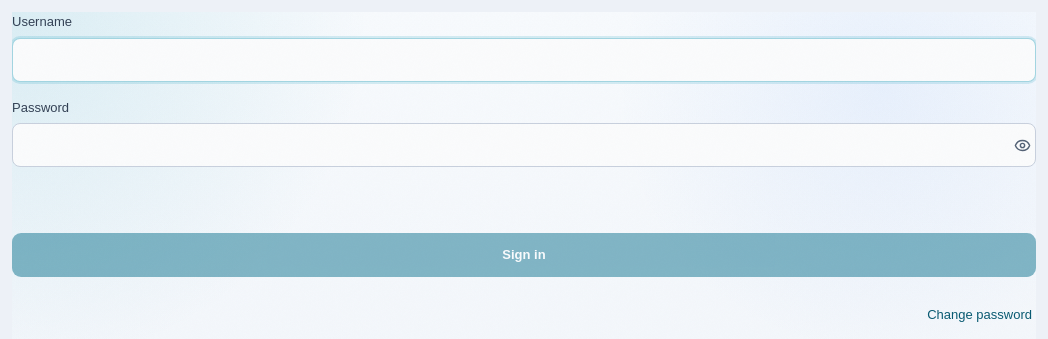
Test: SignInForm › shows why sign-in failed and lets the person try again
The width and height of the screenshot is (1048, 339).
Type "lead" into the field labelled "Username".
click(524, 60); type("lead")  # box [12,38,1036,82]
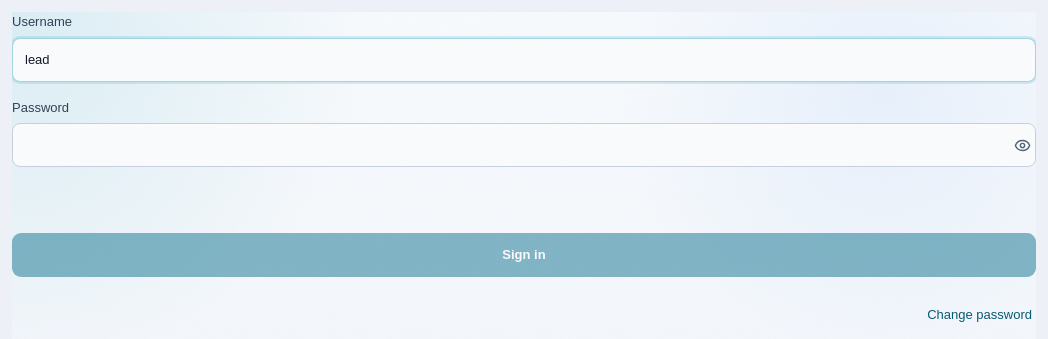
Type "wrong" into the password field labelled "Password".
click(524, 145); type("wrong")  # box [12,123,1036,167]
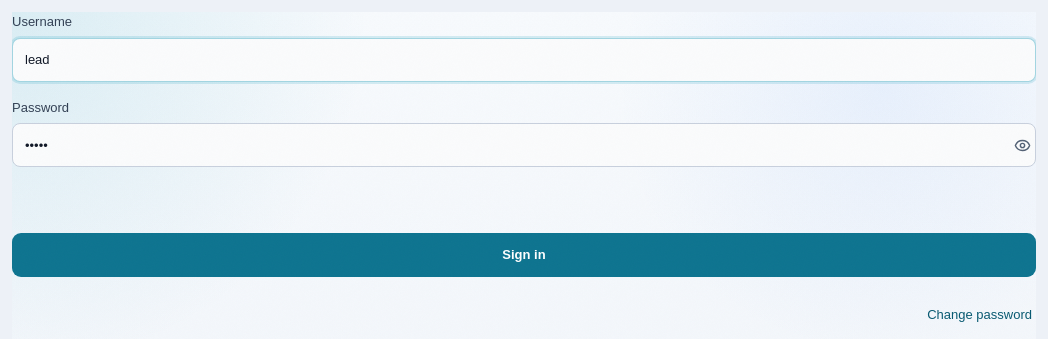
Click the button "Sign in".
click(524, 255)  # box [12,233,1036,277]
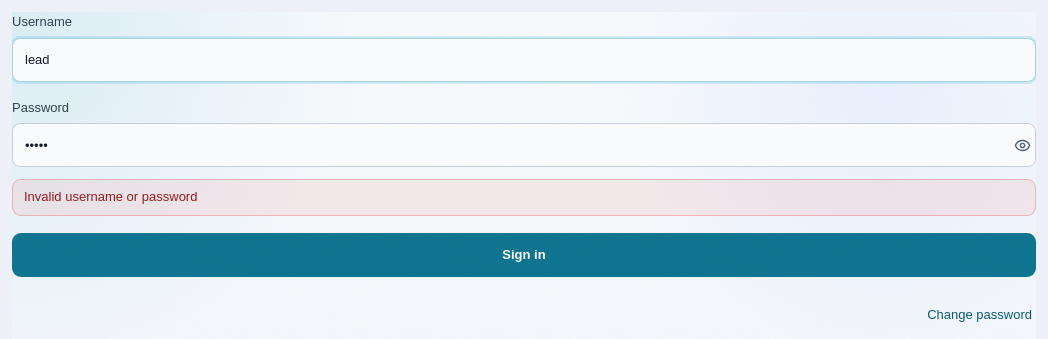
Check: the button "Sign in" is enabled, box [12,233,1036,277]
Check: the message reads "Invalid username or password", box [24,189,197,204]
